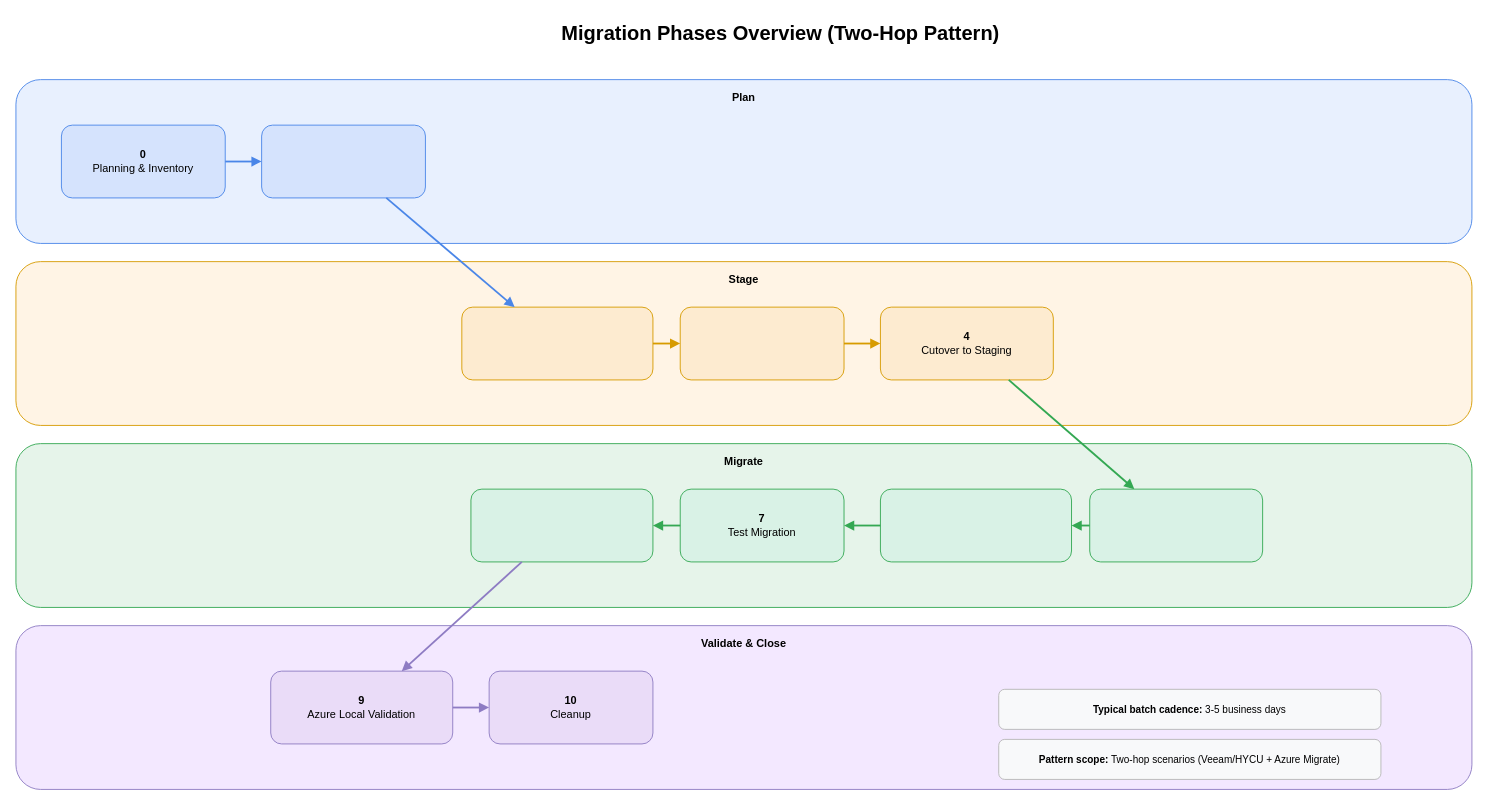
Image size: 1488x805. Some labels were removed from this diagram. The centre of each missing label's shape, as x and y in pixels:
1 Environment Prep: pixel 343 161
2 Initial Replication / Backup: pixel 557 343
3 Incremental Sync: pixel 761 343
5 Staging Validation: pixel 1176 525
6 Azure Migrate Replication: pixel 976 525
8 Azure Migrate Cutover: pixel 561 525
